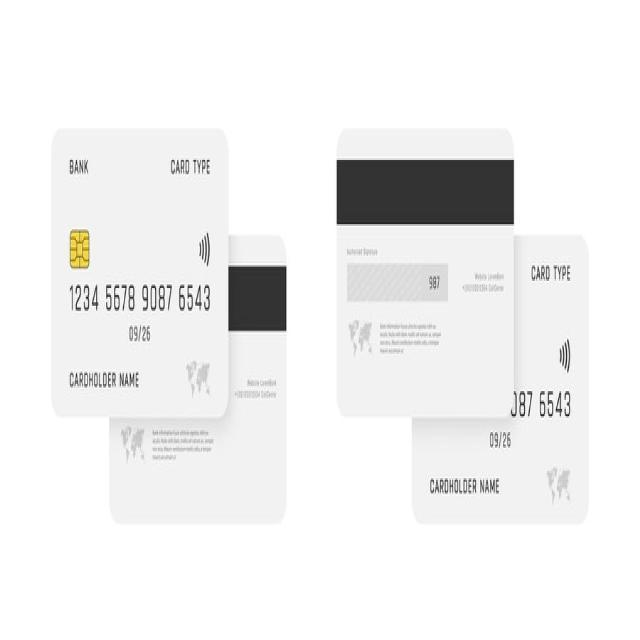payment_card: (335, 134, 520, 421), (50, 127, 230, 419)
